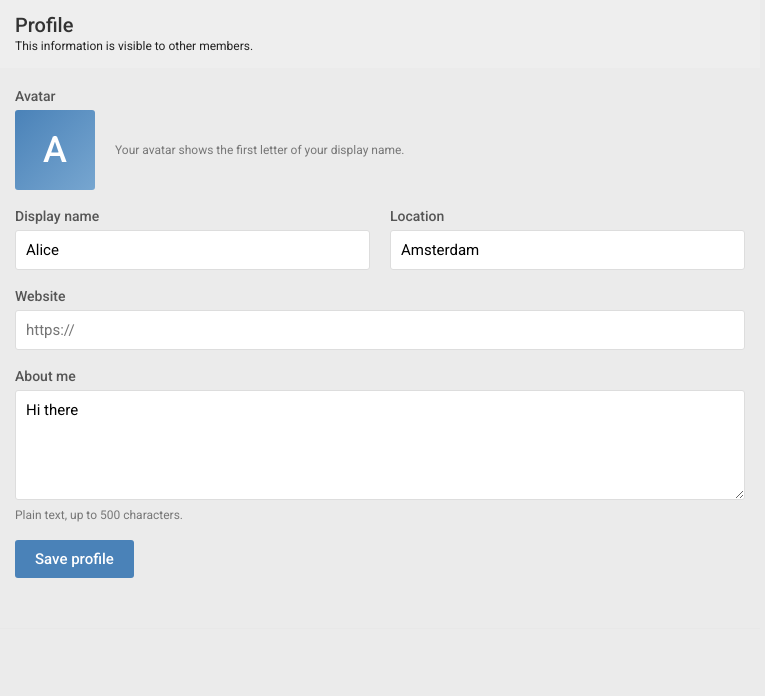
Test case: profile: maps server field errors onto the fields
The width and height of the screenshot is (765, 696).
Type "https://x.io" into the field labelled "Website". click: (380, 330)
box: [15,310,745,350]
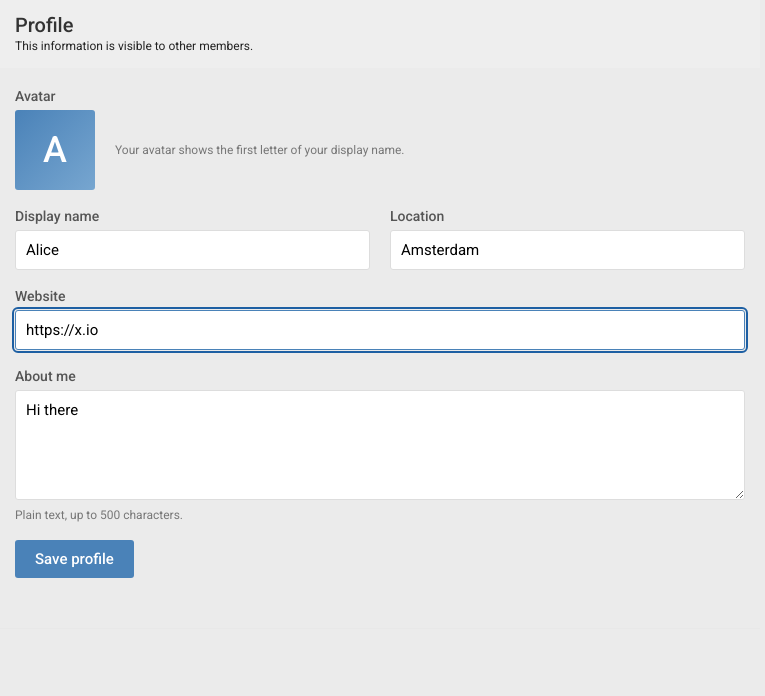
Click the button "Save profile". click: (74, 559)
box: [15,540,134,578]
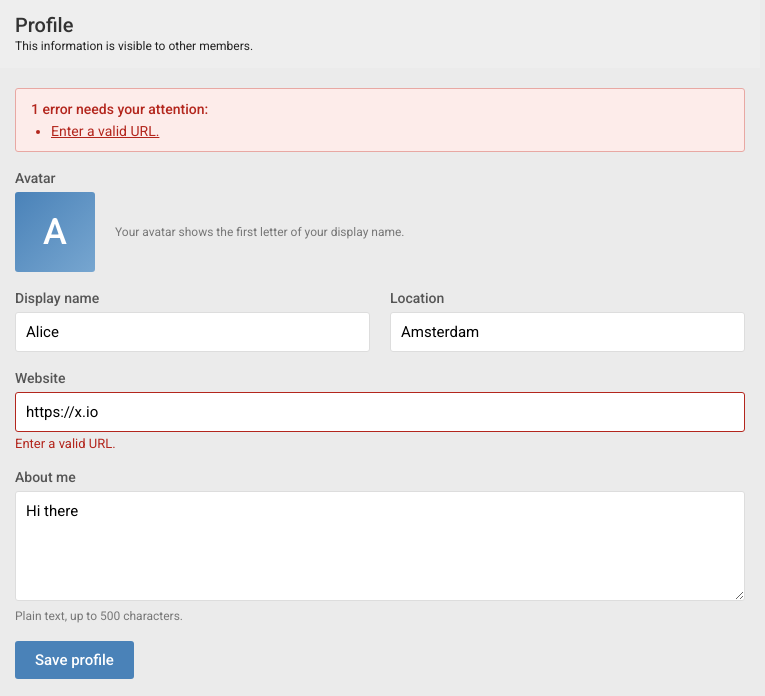
Check: the text with id "website-error" reads "Enter a valid URL.", box [15,436,116,451]
